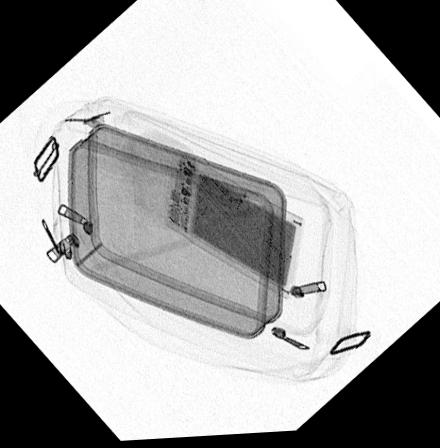Powerbank: (163, 151, 302, 302)
